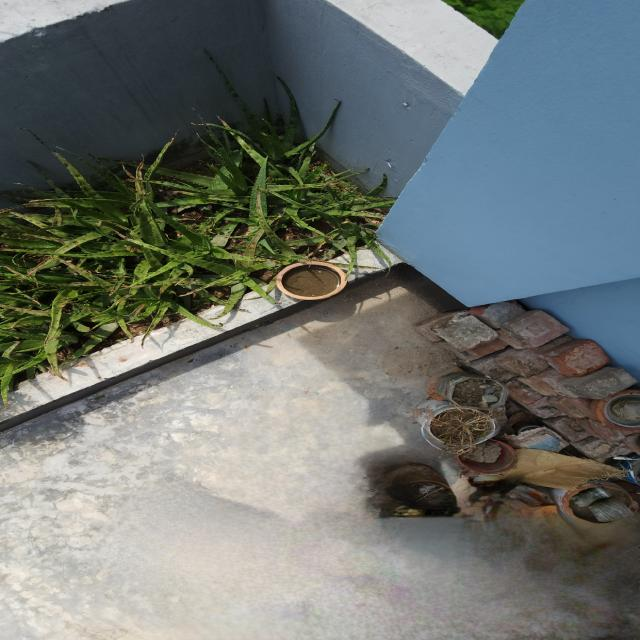Breeding Place: (0, 123, 402, 428), (378, 303, 640, 527), (258, 257, 364, 306)
